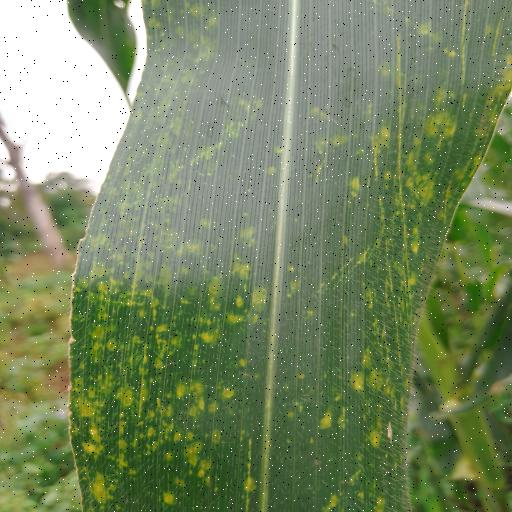Corn_Brown_Spots: (58, 0, 509, 512)
